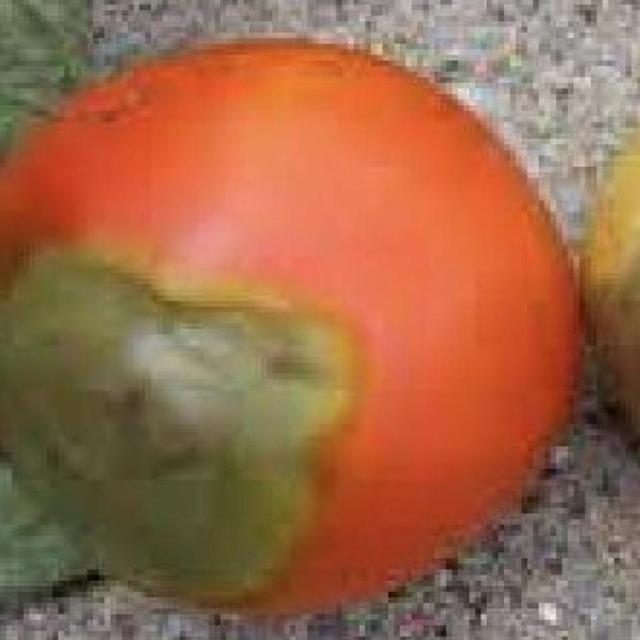Blossom End Rot Fruit: (0, 158, 245, 403)
